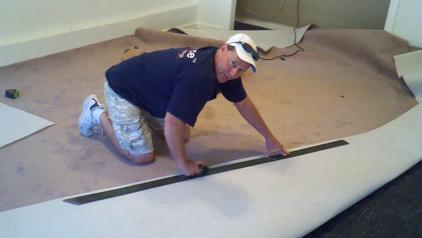down: (77, 94, 105, 136)
sit: (77, 94, 105, 136)
